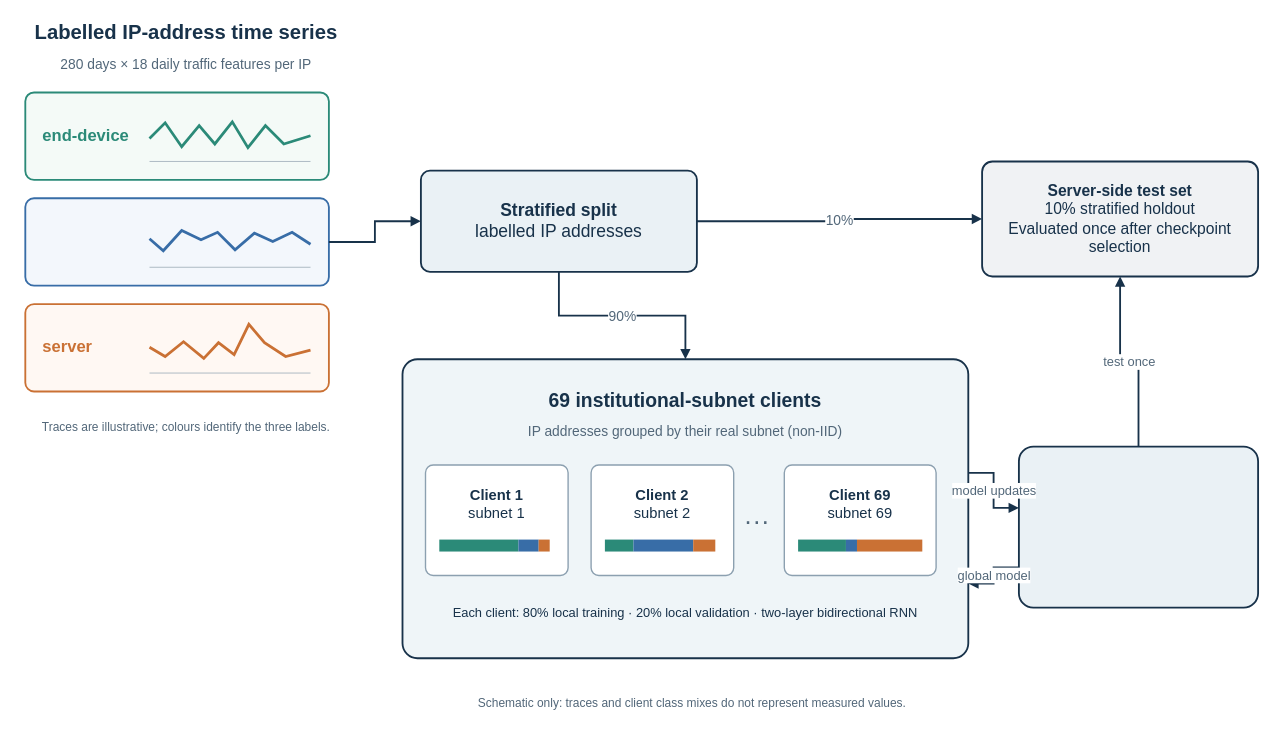
Image size: 1274x733. Some labels were removed from this diagram. Here are the shapes that lost their labels. From the top down, the centre of each, then its label:
point 176,241: net-device
point 1138,526: FL server Aggregate model updates Select checkpoint using federated validation
